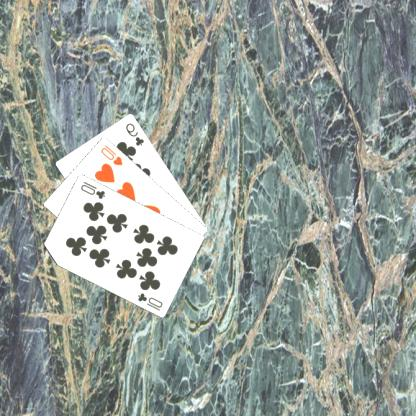10C: (136, 290, 166, 312), (80, 178, 108, 201)
10H: (99, 142, 126, 167)
9C: (125, 120, 147, 147)
